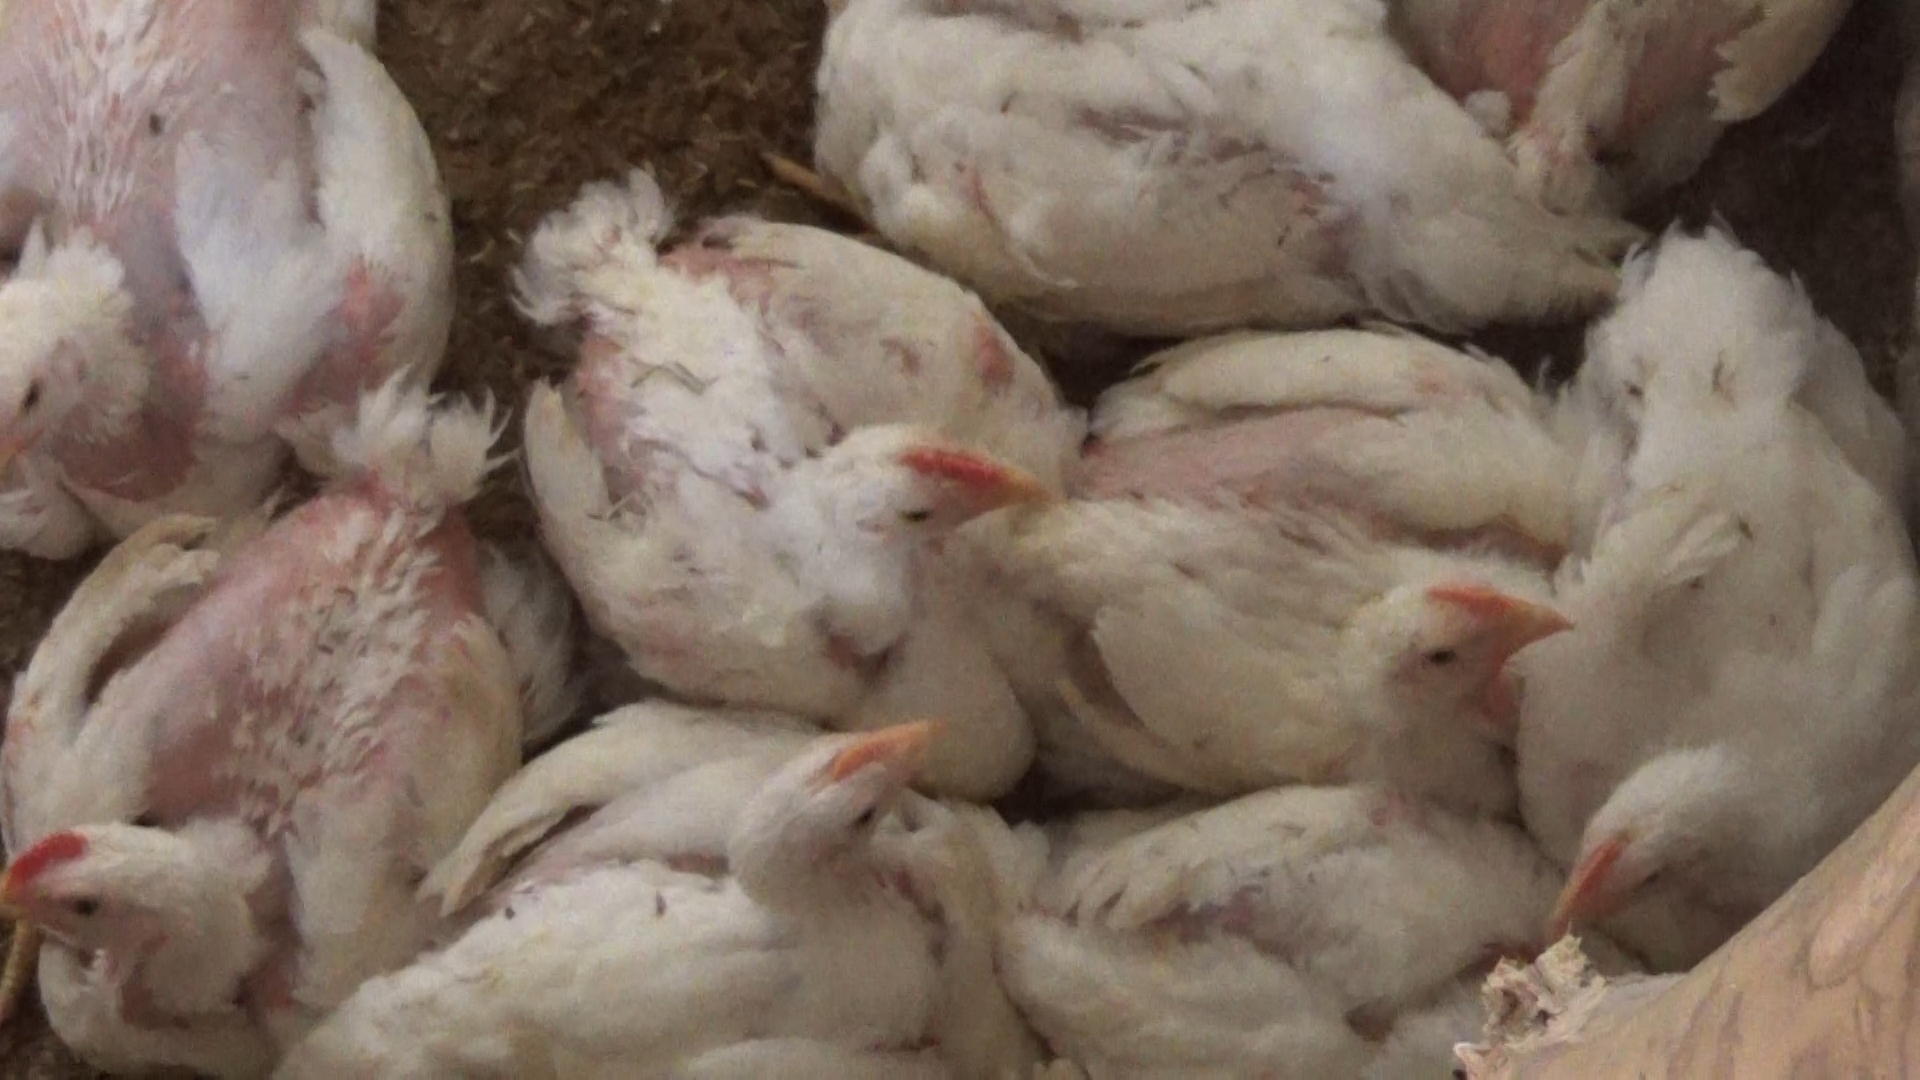Pollos: (0, 377, 593, 1080), (761, 0, 1902, 327), (1497, 218, 1920, 928), (527, 185, 1069, 738), (940, 775, 1850, 1080), (0, 0, 480, 576), (262, 721, 1010, 1072), (1015, 332, 1604, 775)
